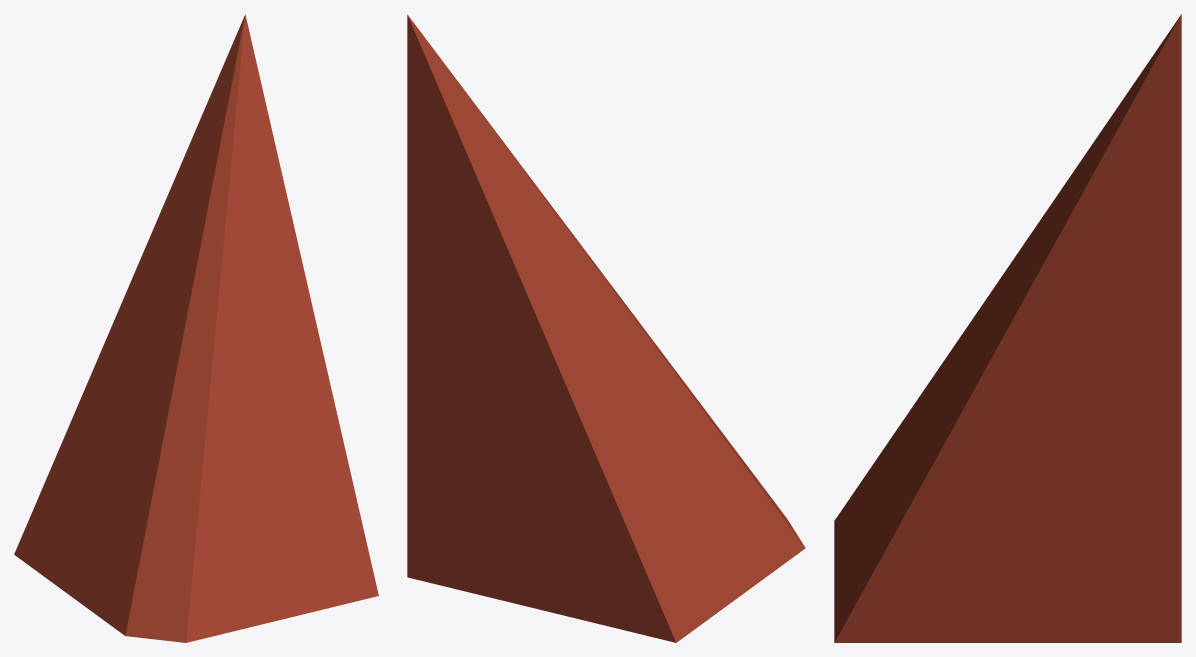
The model's file is Wieza_Dach_Gora.fbx.
3 views of the same model, side by side, from view 1: azimuth 30°, elevation 25°; view 2: azimuth 150°, elevation 25°; view 3: azimuth 270°, elevation 25° (orthographic). The views are drawn at different scales.
Parts seen in each view (by area): view 1: Wieza_Dach_Gora; view 2: Wieza_Dach_Gora; view 3: Wieza_Dach_Gora.
Boxes of the visible parts, box(x1,y1,x2,y2) form: Wieza_Dach_Gora: box(14, 14, 378, 642); Wieza_Dach_Gora: box(407, 14, 805, 642); Wieza_Dach_Gora: box(834, 14, 1181, 642).
Bounding box in the file's own units: 1.5 × 3 × 1.5.
